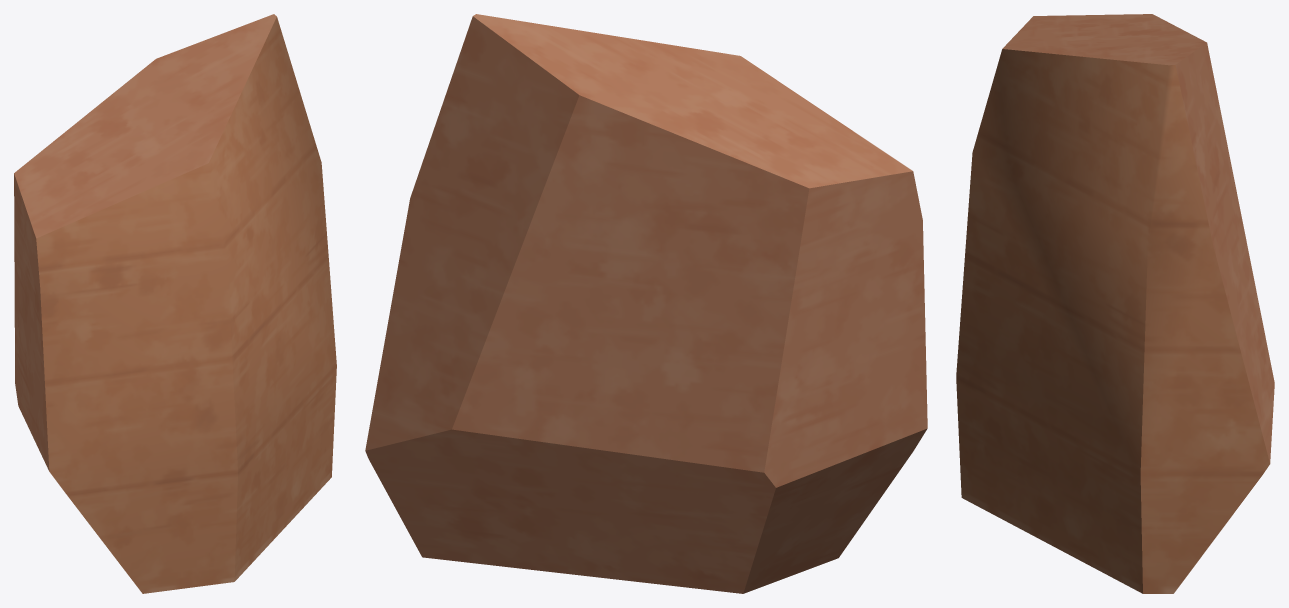
The model's file is kiln_s02.fbx.
3 renders of one model, left to right at view 1: azimuth 30°, elevation 25°; view 2: azimuth 150°, elevation 25°; view 3: azimuth 270°, elevation 25°, orthographic. The views are drawn at different scales.
Parts seen in each view (by area): view 1: kiln_s02; view 2: kiln_s02; view 3: kiln_s02.
Boxes of the visible parts, <box> form: kiln_s02: <box>14,14,336,593</box>; kiln_s02: <box>365,14,927,593</box>; kiln_s02: <box>956,14,1274,593</box>.
Bounding box in the file's own units: 3.97 × 5 × 2.85.
